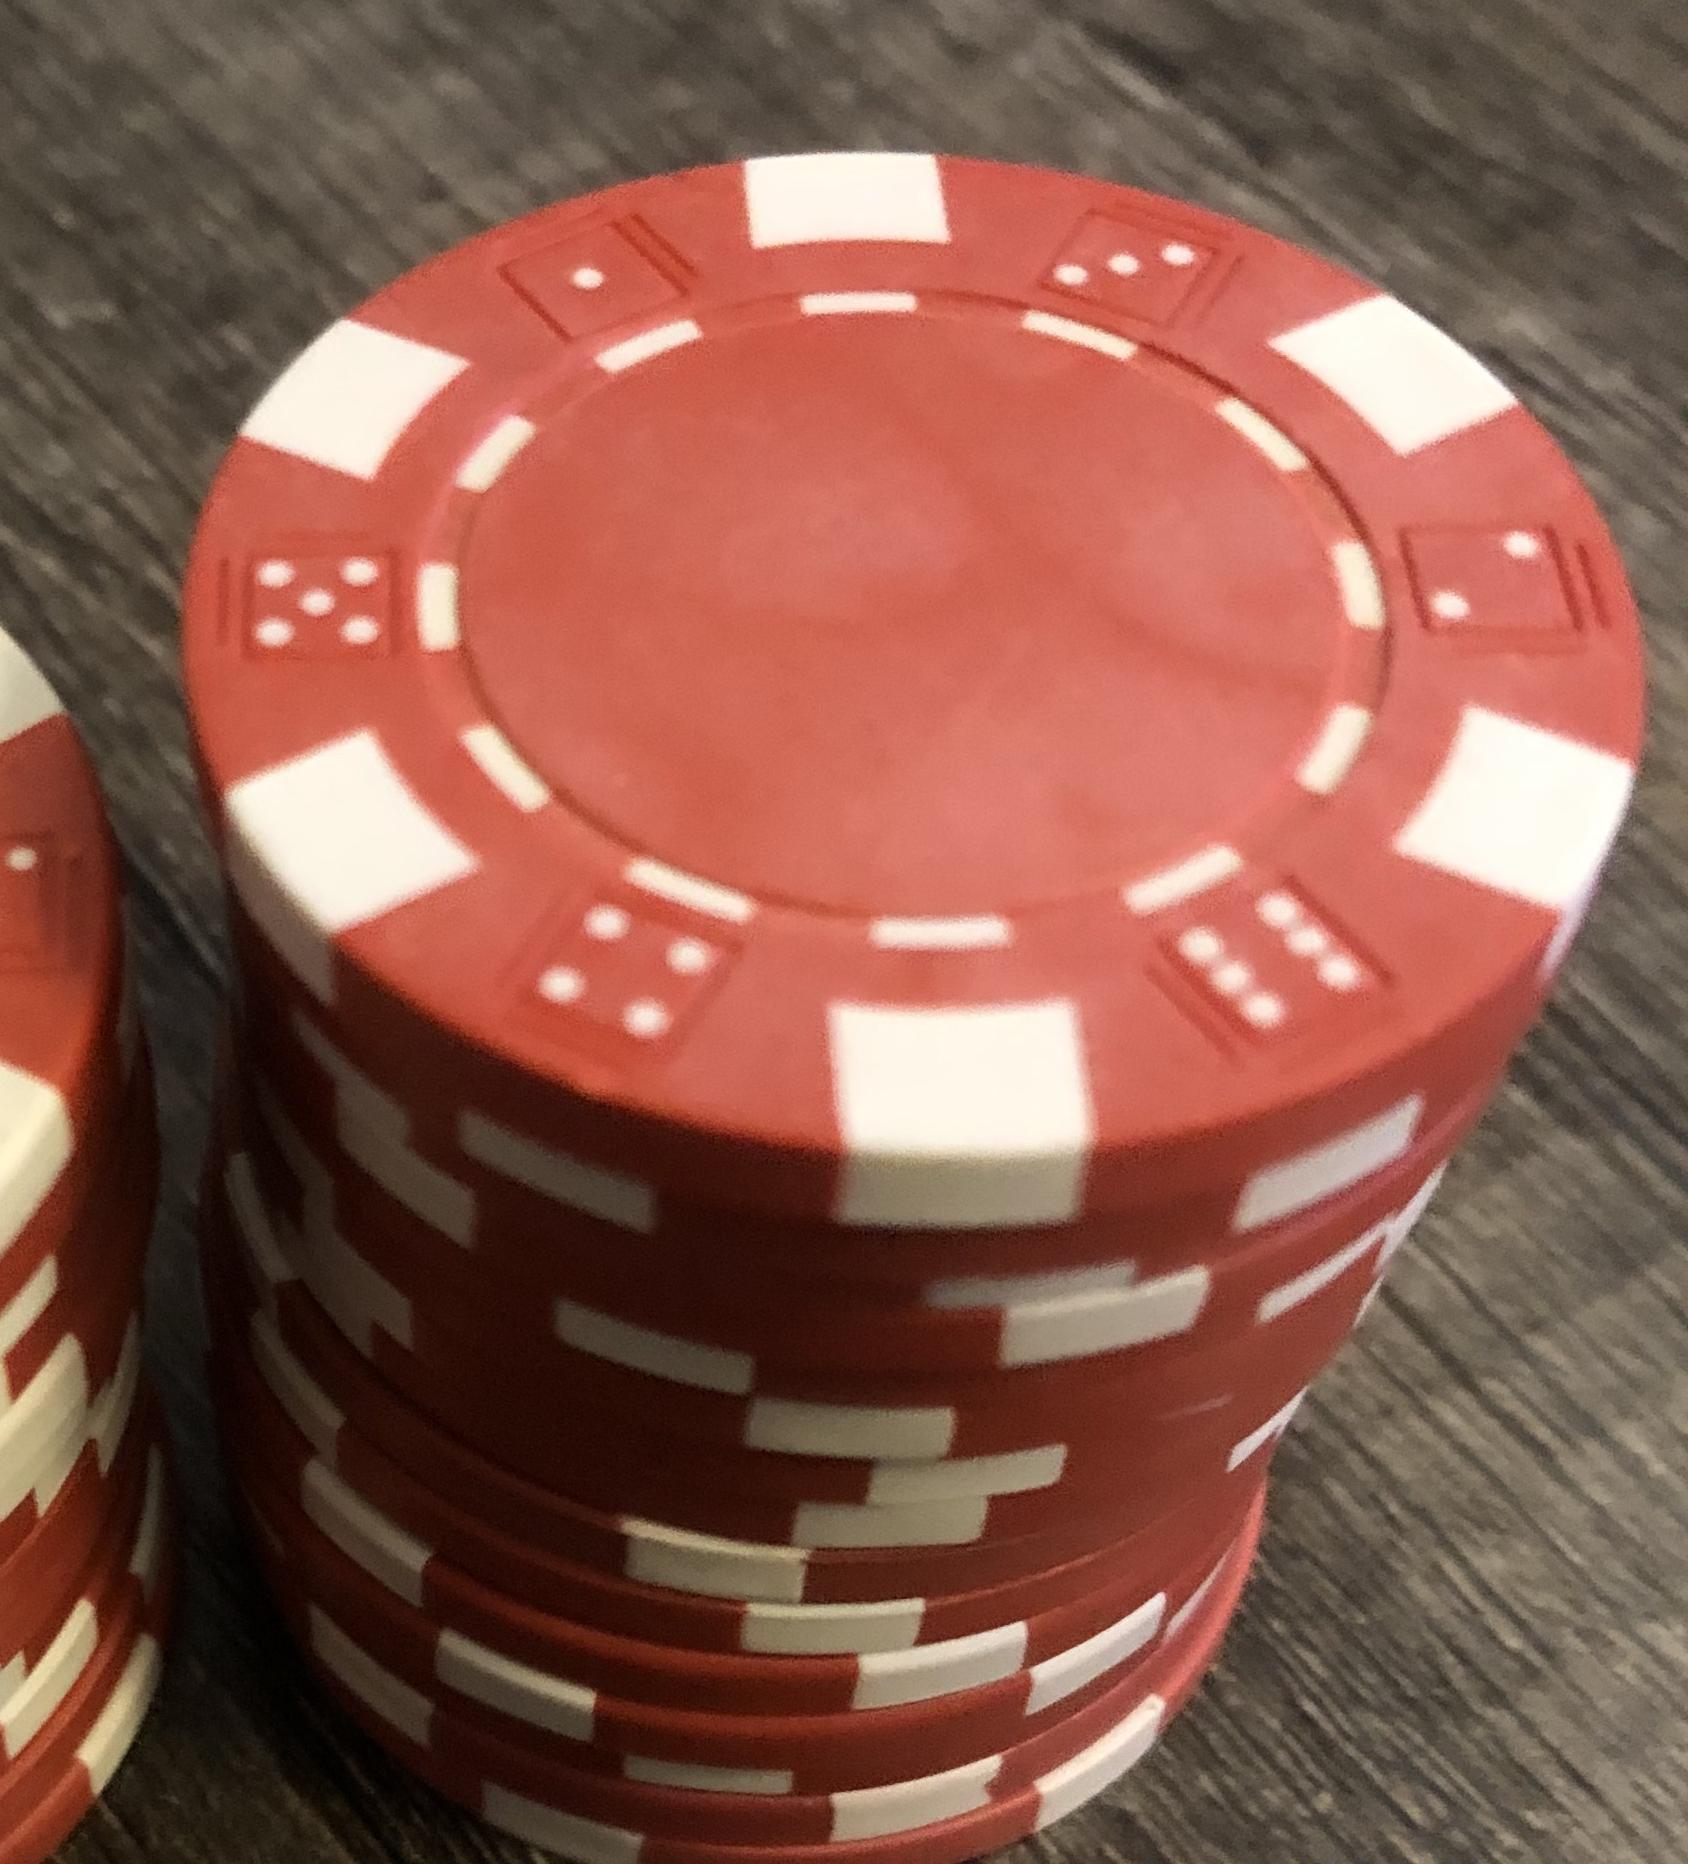Chip: (2, 2, 1688, 1864)
